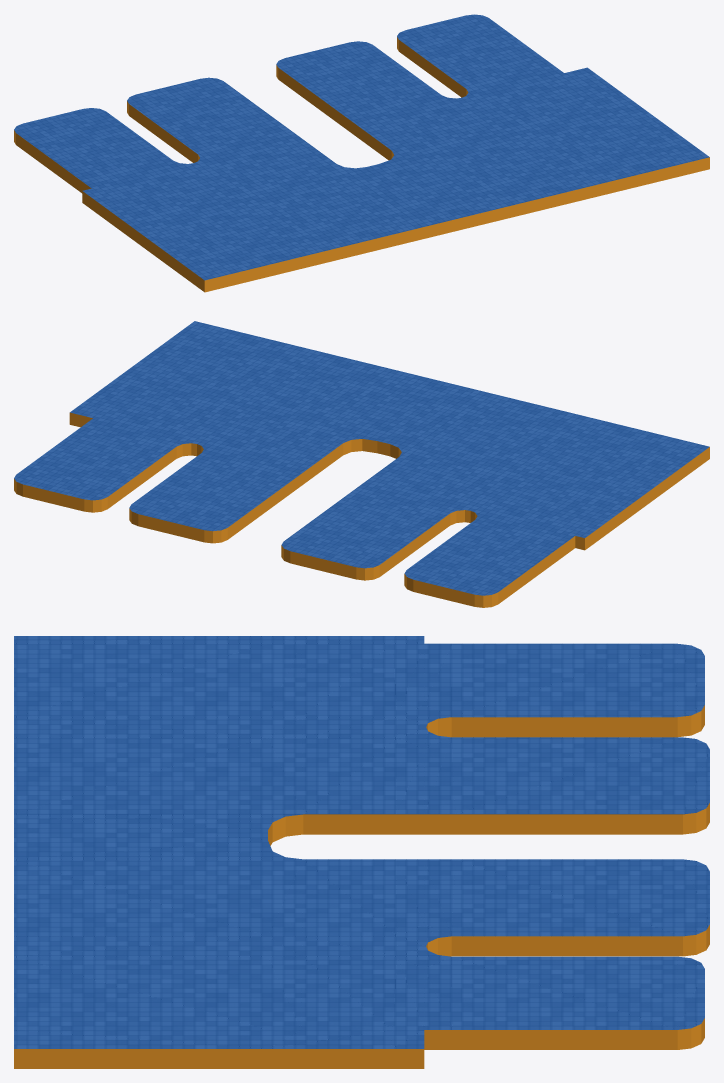
The model's file is Ceiling01.fbx.
3 views of the same model, one above another, from view 1: azimuth 30°, elevation 25°; view 2: azimuth 150°, elevation 25°; view 3: azimuth 270°, elevation 25° (orthographic). The views are drawn at different scales.
Visible parts, largest first — view 1: Empty_Mesh; view 2: Empty_Mesh; view 3: Empty_Mesh.
Part boxes in pixels (x1=…): Empty_Mesh: x1=14, y1=14, x2=709, y2=292; Empty_Mesh: x1=14, y1=321, x2=709, y2=607; Empty_Mesh: x1=14, y1=636, x2=709, y2=1068.
Bounding box in the file's own units: 1644 × 37.29 × 1171.
